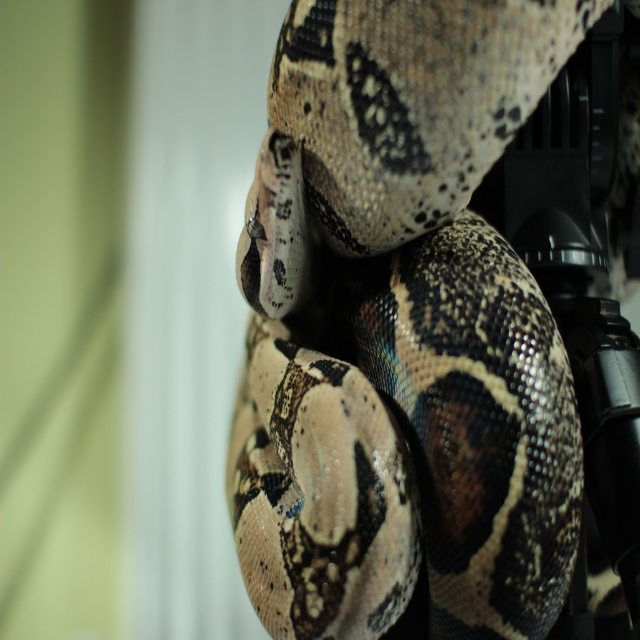Snake: (223, 0, 640, 639)
